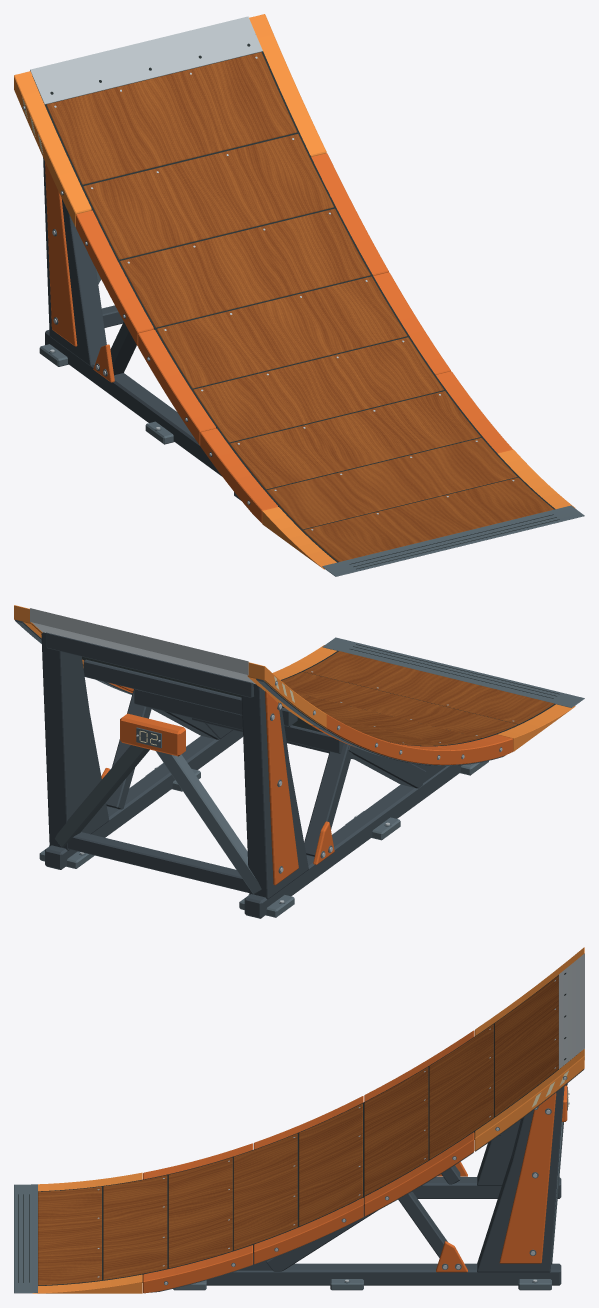
The model's file is wsc-module-007-hover-kicker-36.glb.
The picture shows the model from 3 angles, top to bottom: view 1: azimuth 30°, elevation 25°; view 2: azimuth 150°, elevation 25°; view 3: azimuth 270°, elevation 25°; orthographic projection. The views are drawn at different scales.
Parts seen in each view (by area): view 1: 06 | Laminated birch riding panels, 03 | Fired orange enamel, 01 | Powder-coated iron, 05 | Brushed zinc hardware, 04 | Worn enamel end fittings, 07 | Rubber seam and inset, 02 | Graphite end caps; view 2: 01 | Powder-coated iron, 06 | Laminated birch riding panels, 02 | Graphite end caps, 03 | Fired orange enamel, 05 | Brushed zinc hardware, 04 | Worn enamel end fittings, 07 | Rubber seam and inset; view 3: 06 | Laminated birch riding panels, 01 | Powder-coated iron, 03 | Fired orange enamel, 04 | Worn enamel end fittings, 02 | Graphite end caps, 07 | Rubber seam and inset, 05 | Brushed zinc hardware.
Part boxes in pixels (x1,y1,x2,y2): 06 | Laminated birch riding panels: (46, 52, 553, 561); 03 | Fired orange enamel: (45, 153, 512, 523); 01 | Powder-coated iron: (43, 157, 222, 476); 05 | Brushed zinc hardware: (22, 16, 514, 530); 04 | Worn enamel end fittings: (14, 14, 575, 569); 07 | Rubber seam and inset: (32, 43, 559, 569); 02 | Graphite end caps: (23, 105, 584, 576); 01 | Powder-coated iron: (41, 632, 461, 918); 06 | Laminated birch riding panels: (281, 651, 553, 745); 02 | Graphite end caps: (15, 620, 584, 917); 03 | Fired orange enamel: (101, 683, 513, 885); 05 | Brushed zinc hardware: (30, 608, 514, 902); 04 | Worn enamel end fittings: (14, 605, 575, 751); 07 | Rubber seam and inset: (82, 644, 559, 746); 06 | Laminated birch riding panels: (38, 975, 558, 1285); 01 | Powder-coated iron: (206, 1083, 567, 1285); 03 | Fired orange enamel: (143, 1030, 567, 1293); 04 | Worn enamel end fittings: (32, 947, 584, 1293); 02 | Graphite end caps: (14, 1069, 584, 1293); 07 | Rubber seam and inset: (18, 973, 576, 1285); 05 | Brushed zinc hardware: (97, 953, 584, 1284).
Size of the model in its own units: 3.56 by 3.6 by 7.8.
8 materials, 1 textured.
